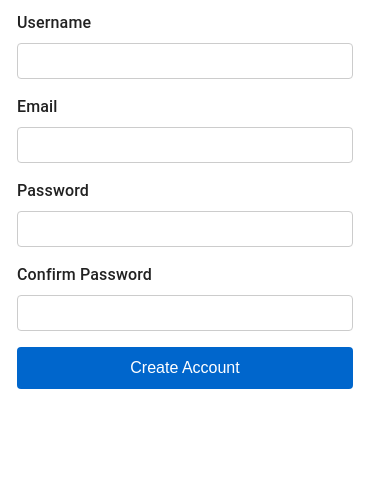
Test case: RegisterForm › validates required fields
The width and height of the screenshot is (371, 503).
Step 1. Click the button "Create Account" → (185, 368), box [17,347,353,389]
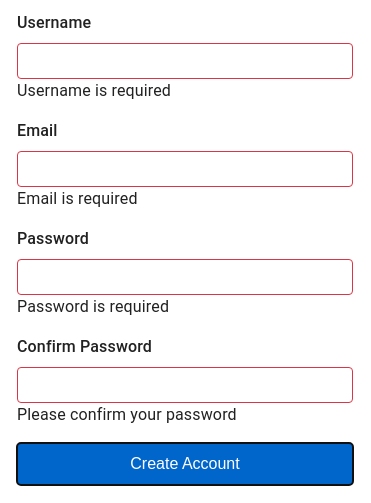
Check: the text "Username is required" is shown, box [17,81,171,100]
Check: the text "Email is required" is shown, box [17,189,138,208]
Check: the text "Password is required" is shown, box [17,297,169,316]
